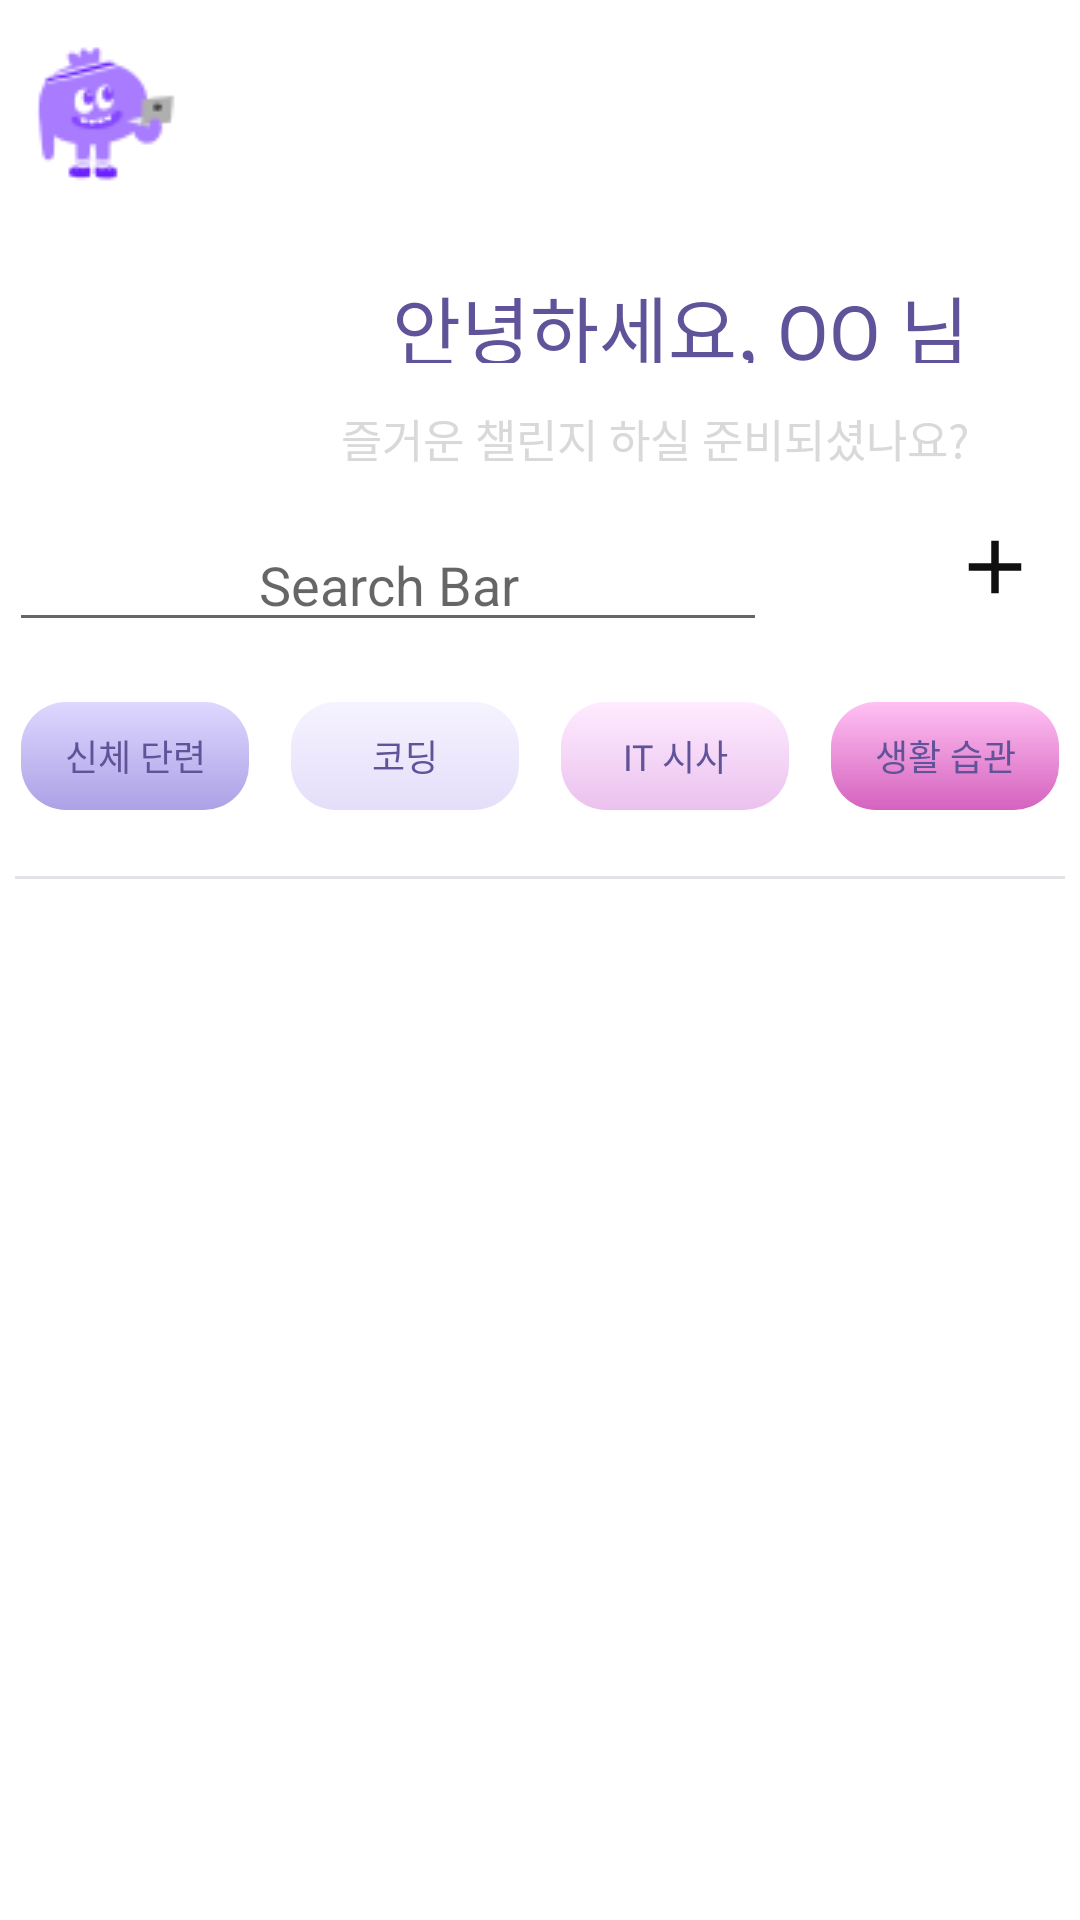

Named icons in this screenshot (1080*1920) and their bounding boxes, [left=x1, top=y1, right=x2, bottom=y2]:
add: [left=968, top=540, right=1022, bottom=594]
